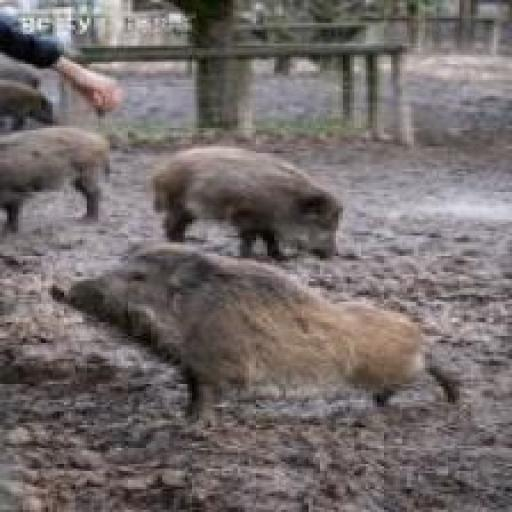Pig: (37, 226, 480, 434), (139, 130, 359, 277)
